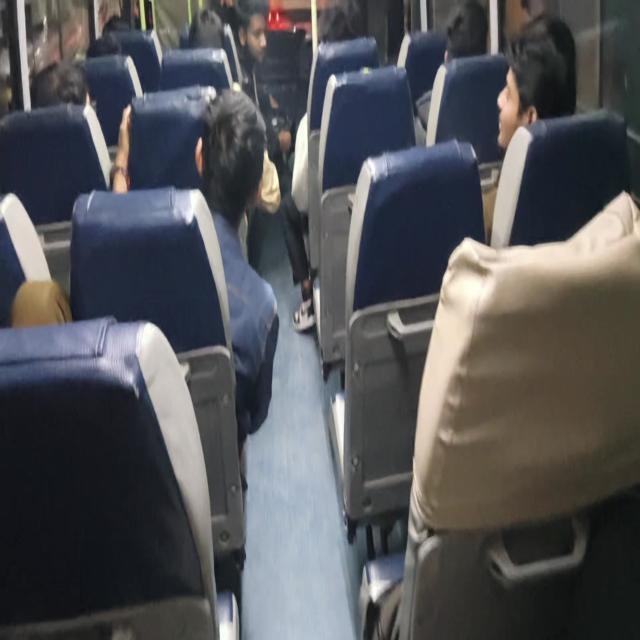person: (110, 86, 280, 448), (284, 2, 377, 331), (235, 1, 316, 332), (480, 16, 577, 242), (30, 58, 132, 192), (414, 0, 488, 143), (495, 25, 575, 155)
